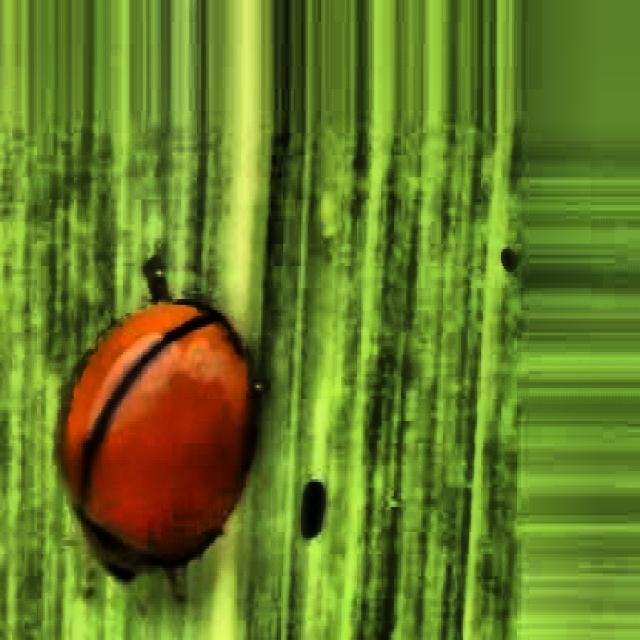Ladybug: (12, 206, 290, 637)
